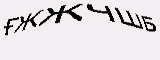Д: (105, 15, 134, 43), (92, 16, 108, 44)
З: (78, 16, 93, 40)
Ш: (29, 15, 55, 36)
Щ: (53, 19, 78, 41)
